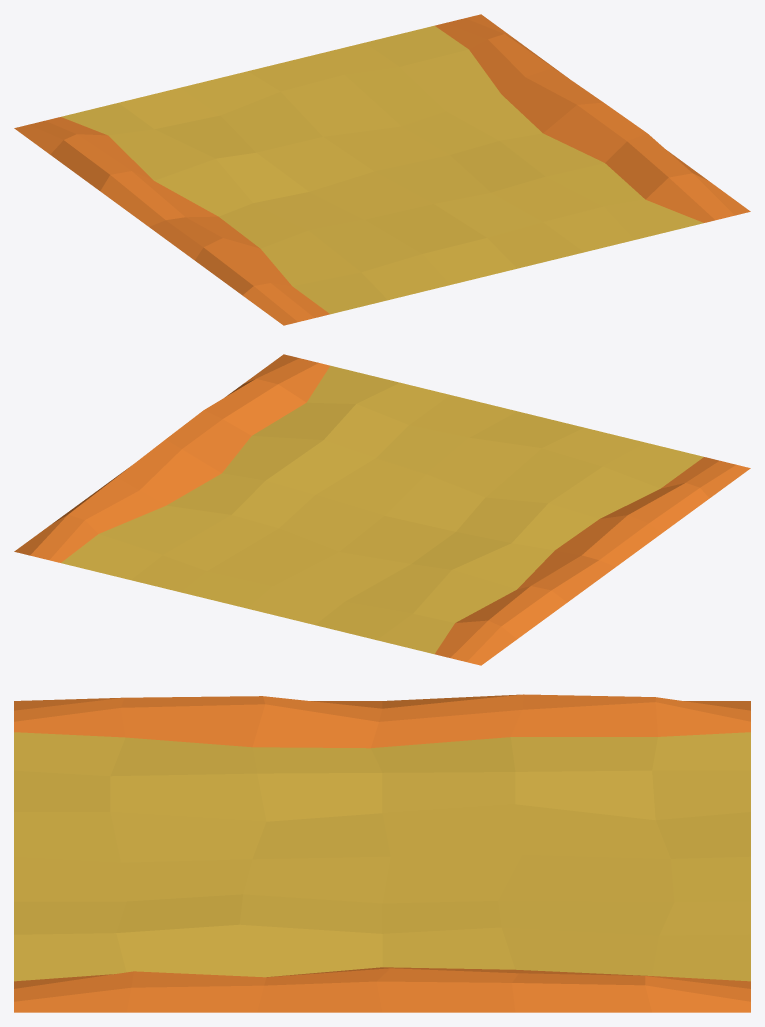
Rendered from nature_path_straight.obj.
The picture shows the model from 3 angles, top to bottom: view 1: azimuth 30°, elevation 25°; view 2: azimuth 150°, elevation 25°; view 3: azimuth 270°, elevation 25°; orthographic projection. The views are drawn at different scales.
Visible parts, largest first — view 1: Plane; view 2: Plane; view 3: Plane.
Boxes of the visible parts, left/top/right/bottom form: Plane: left=14, top=14, right=750, bottom=325; Plane: left=14, top=354, right=750, bottom=665; Plane: left=14, top=694, right=750, bottom=1012.
Bounding box in the file's own units: 2 × 0.08 × 2.
